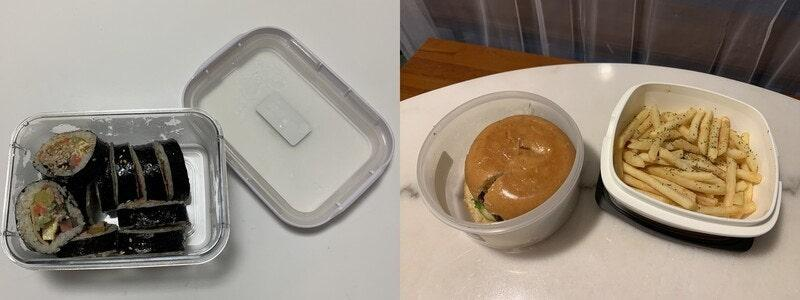Lunch Box: (0, 28, 393, 269), (601, 83, 780, 237), (413, 91, 587, 249)
